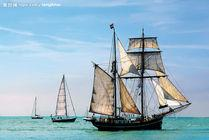fanchuan: (84, 21, 193, 132), (48, 74, 80, 125), (28, 96, 42, 122)
